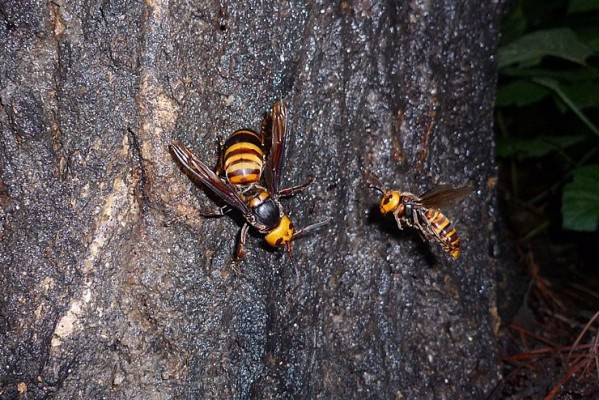asian_giant_hornet: (171, 97, 326, 264), (364, 172, 473, 260)
